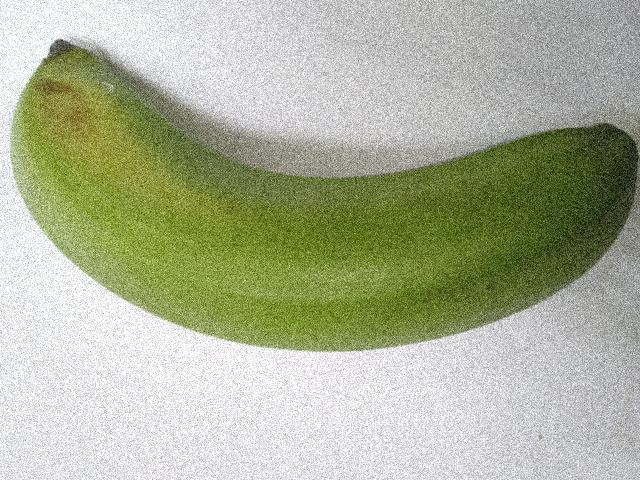freshunripe: (7, 28, 631, 365)
